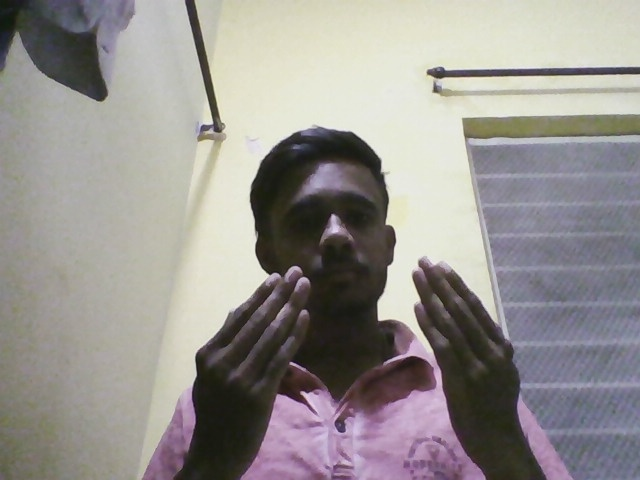thankyou: (177, 257, 527, 455)
